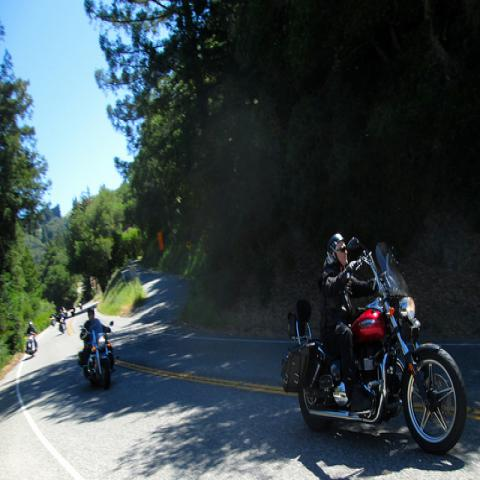motorcycle: (280, 227, 472, 451), (82, 318, 115, 389), (24, 334, 36, 358), (53, 313, 61, 322), (51, 320, 56, 328), (61, 323, 64, 334), (70, 308, 74, 316), (63, 310, 67, 315)
